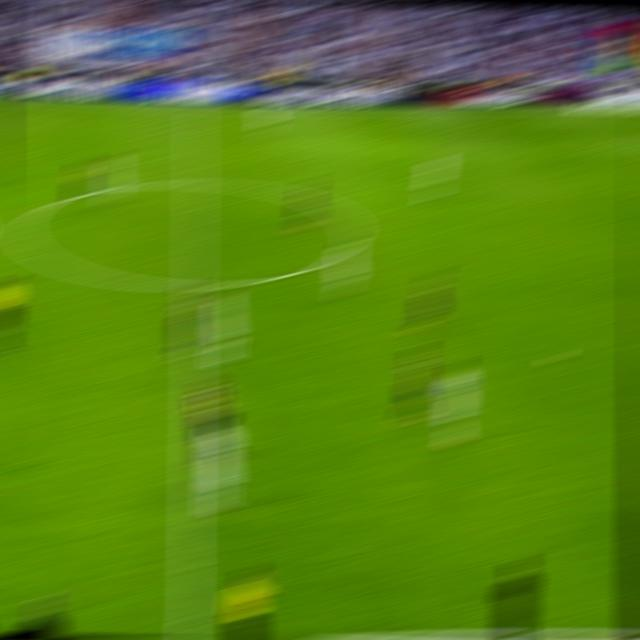halfcircle_bottom: (181, 271, 206, 296)
halfcircle_top: (182, 171, 207, 194)
midline_bottom_intersection: (171, 620, 205, 638)
midline_top_intersection: (185, 103, 205, 115)
